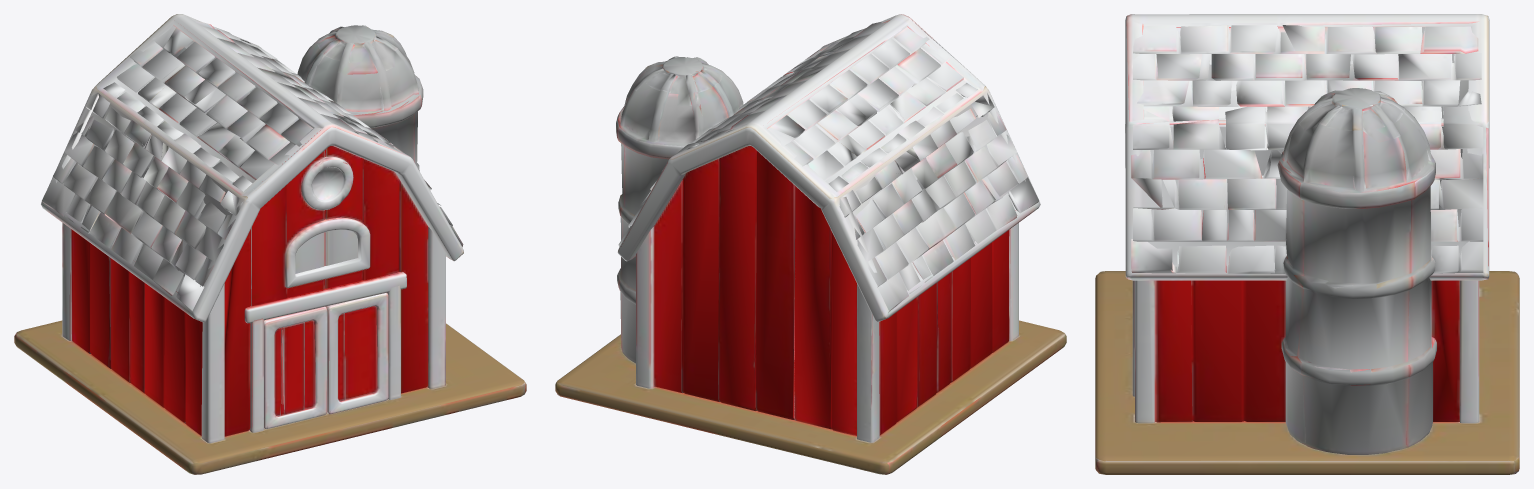
The model's file is bld-barn.glb.
3 views of the same model, side by side, from view 1: azimuth 30°, elevation 25°; view 2: azimuth 150°, elevation 25°; view 3: azimuth 270°, elevation 25° (orthographic). The views are drawn at different scales.
Bounding box in the file's own units: 1.15 × 1 × 1.08.
1 material, 1 textured.
